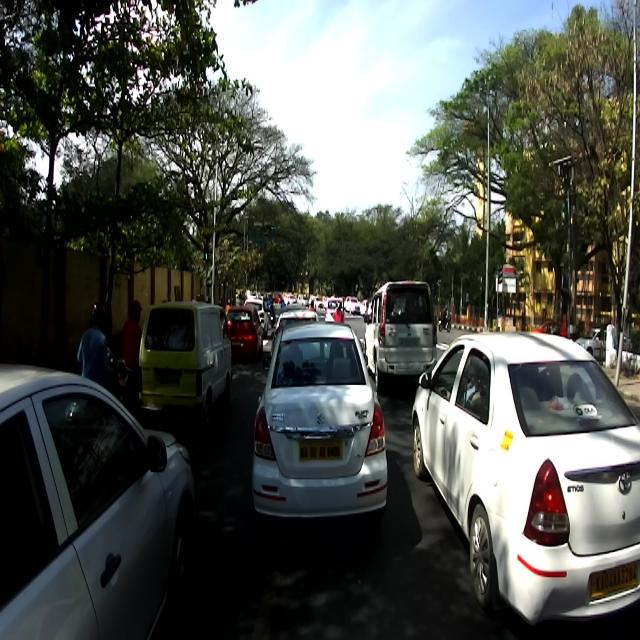car: (410, 330, 640, 634), (0, 361, 196, 637), (249, 319, 387, 531), (136, 300, 234, 430), (362, 279, 438, 393)
scooter: (112, 349, 140, 417)
